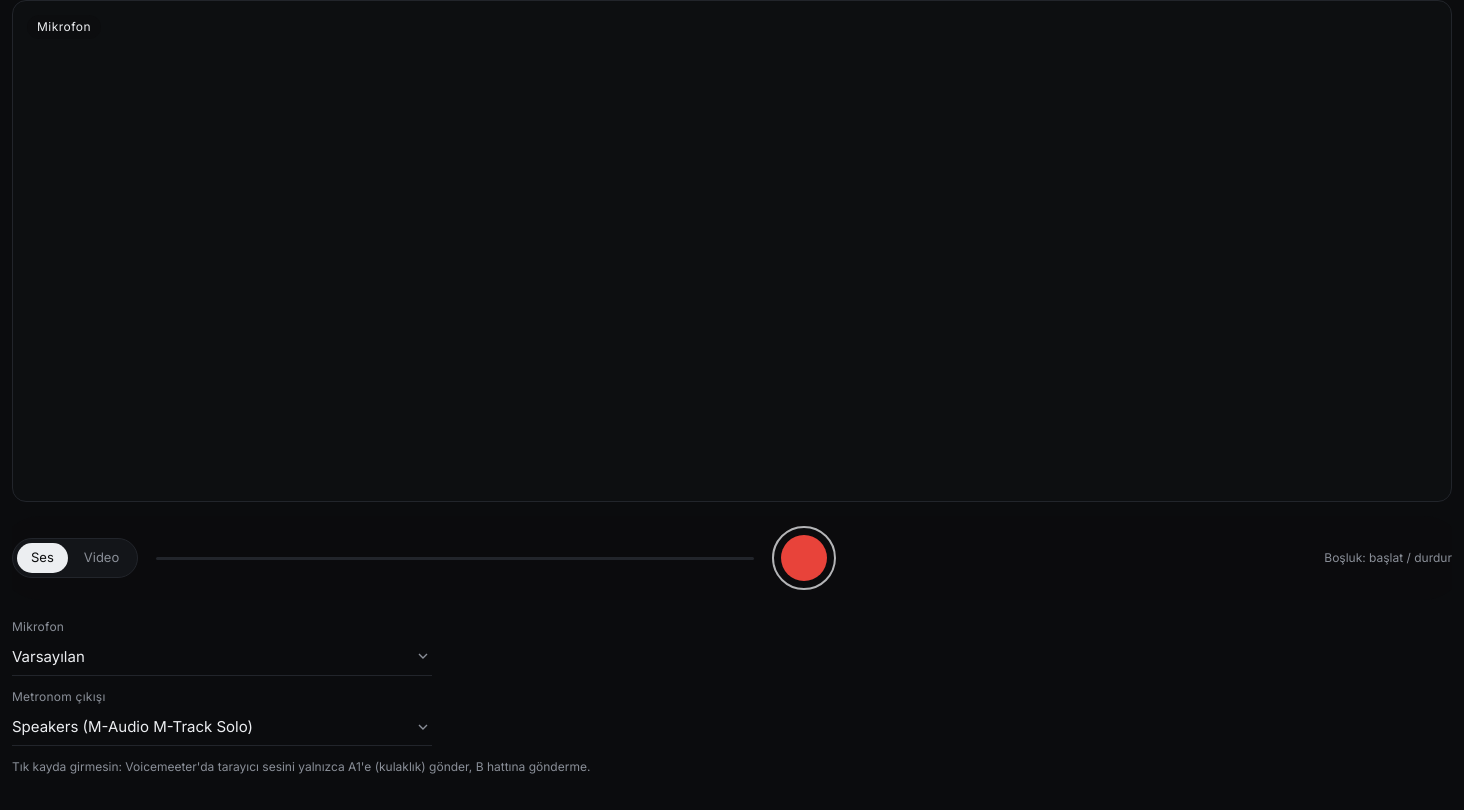
Test: Recorder › missing track file: Turkish message, records without track
What coordinates should you click on to do the following:
click the button named "Kaydet"
I would click on:
 (804, 558)
Its box is [772, 526, 836, 590].
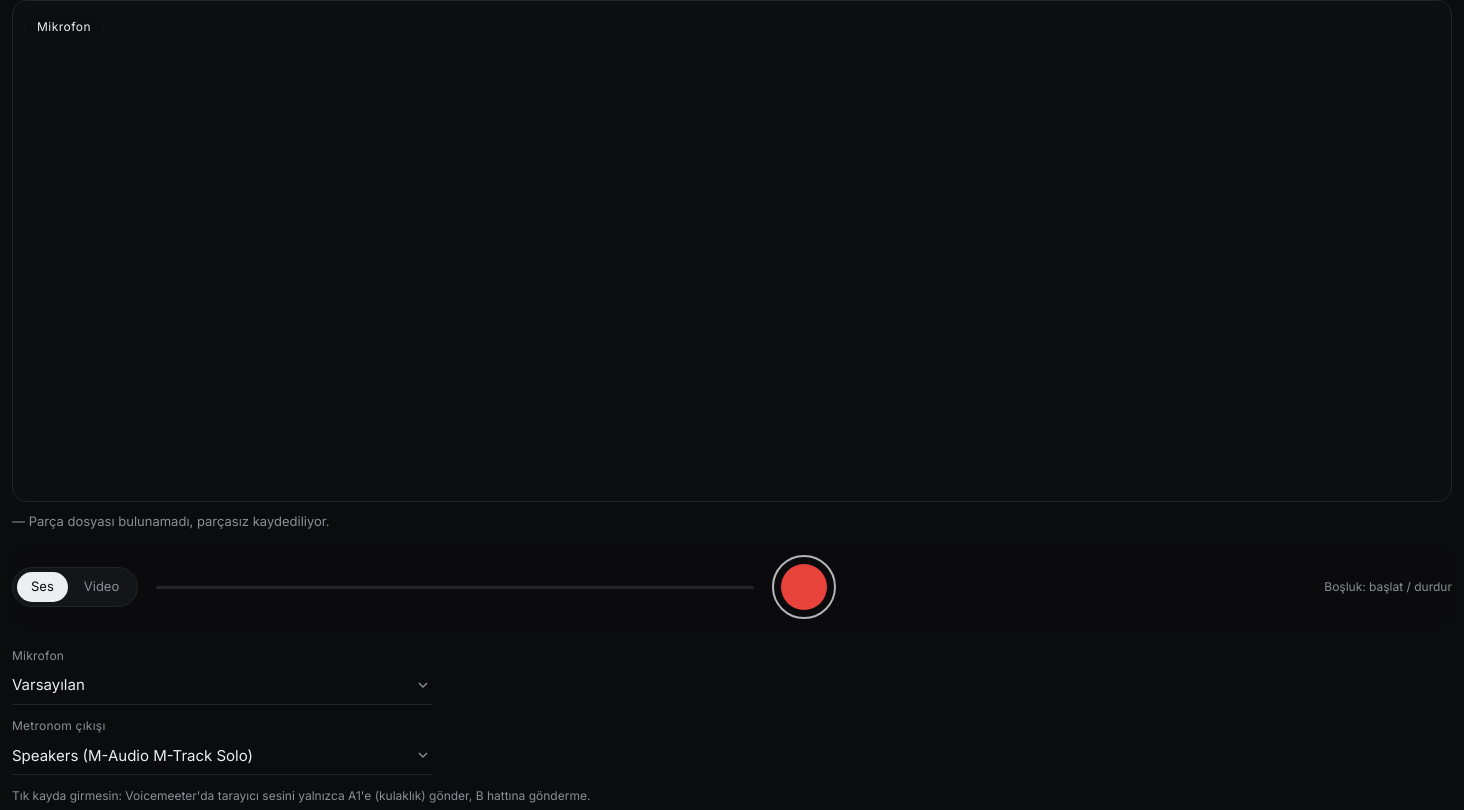
Now the text "Parça dosyası bulunamadı, parçasız kaydediliyor." is shown, box [29, 513, 330, 529]
